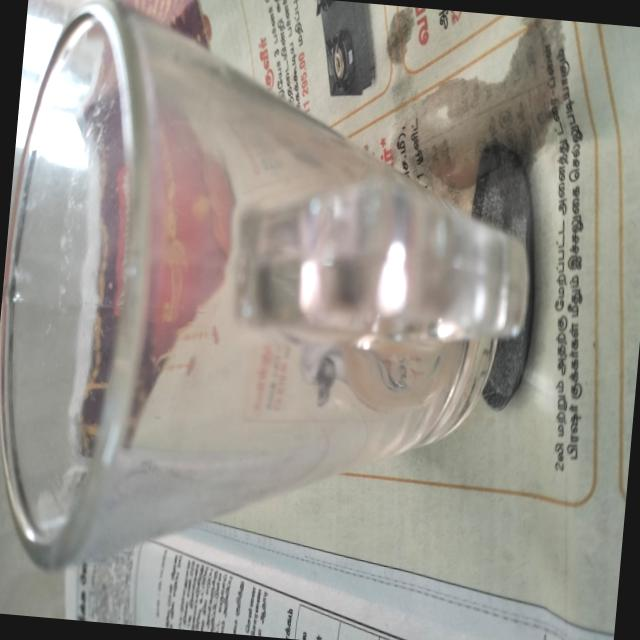glass-VX4N: (0, 0, 554, 613)
